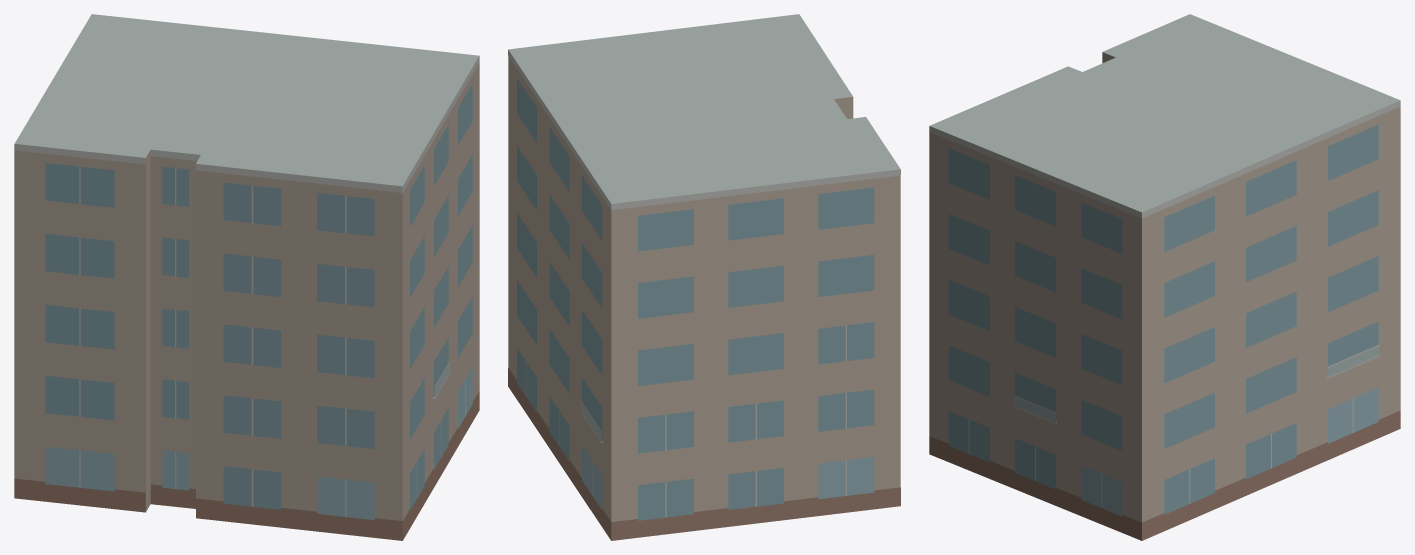
Rendered from survey-upis-33002196.glb.
3 views of the same model, side by side, from view 1: azimuth 30°, elevation 25°; view 2: azimuth 150°, elevation 25°; view 3: azimuth 270°, elevation 25° (orthographic). The views are drawn at different scales.
Parts seen in each view (by area): view 1: survey-upis-33002196.tmp; view 2: survey-upis-33002196.tmp; view 3: survey-upis-33002196.tmp.
Boxes of the visible parts, bbox=[...] form: survey-upis-33002196.tmp: bbox=[14, 14, 479, 540]; survey-upis-33002196.tmp: bbox=[508, 14, 900, 540]; survey-upis-33002196.tmp: bbox=[929, 14, 1400, 540].
Size of the model in its own units: 17.12 by 13.2 by 17.17.
